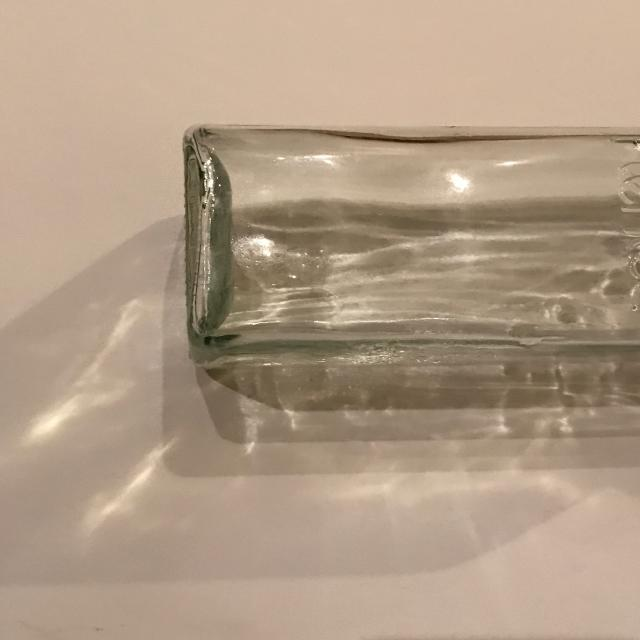glass: (180, 120, 640, 420)
